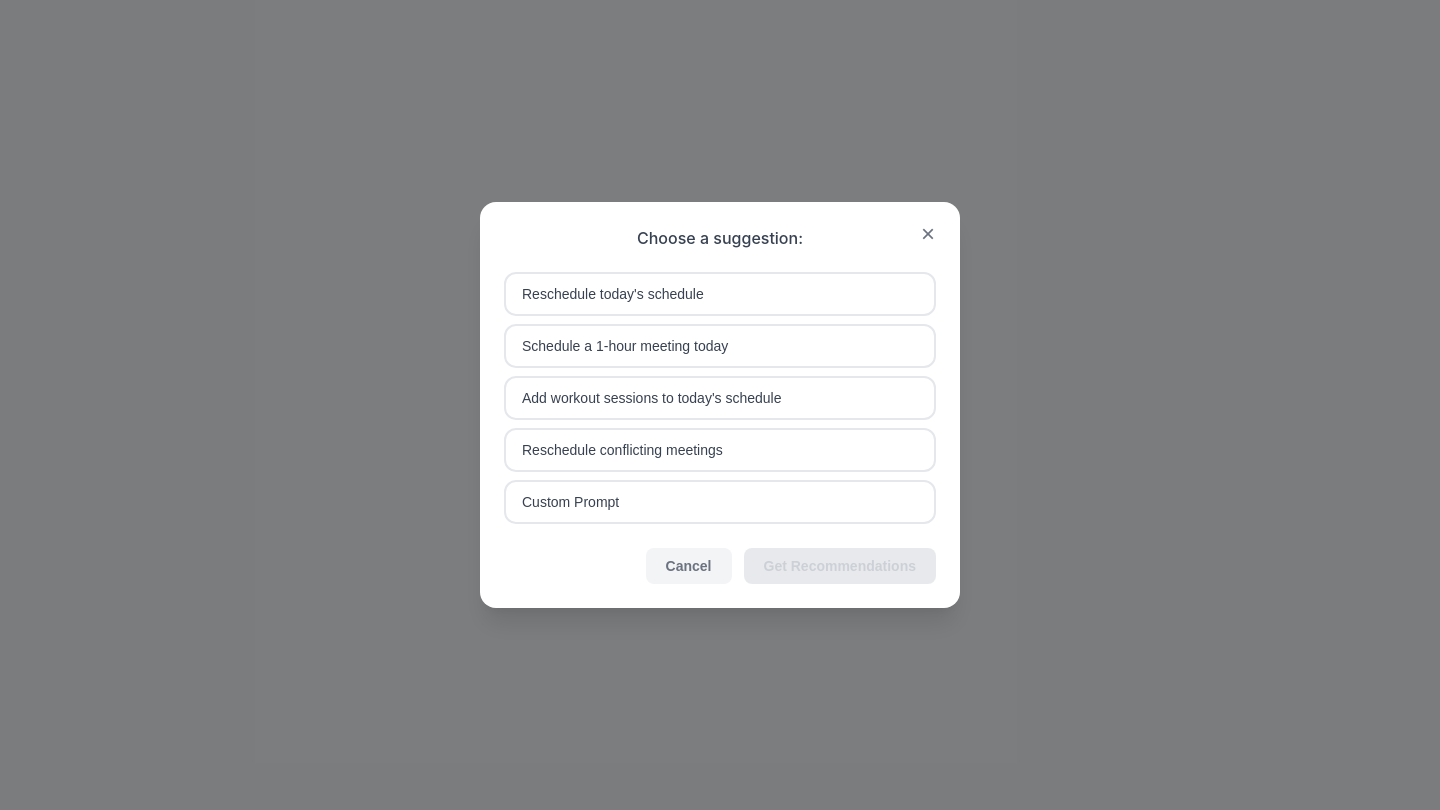
Test: ScheduleRecommendationsModal › Time Preferences › updates parent checkbox when all children are selected
Click the button "Reschedule today's schedule": (613, 294) [504,272,936,316]
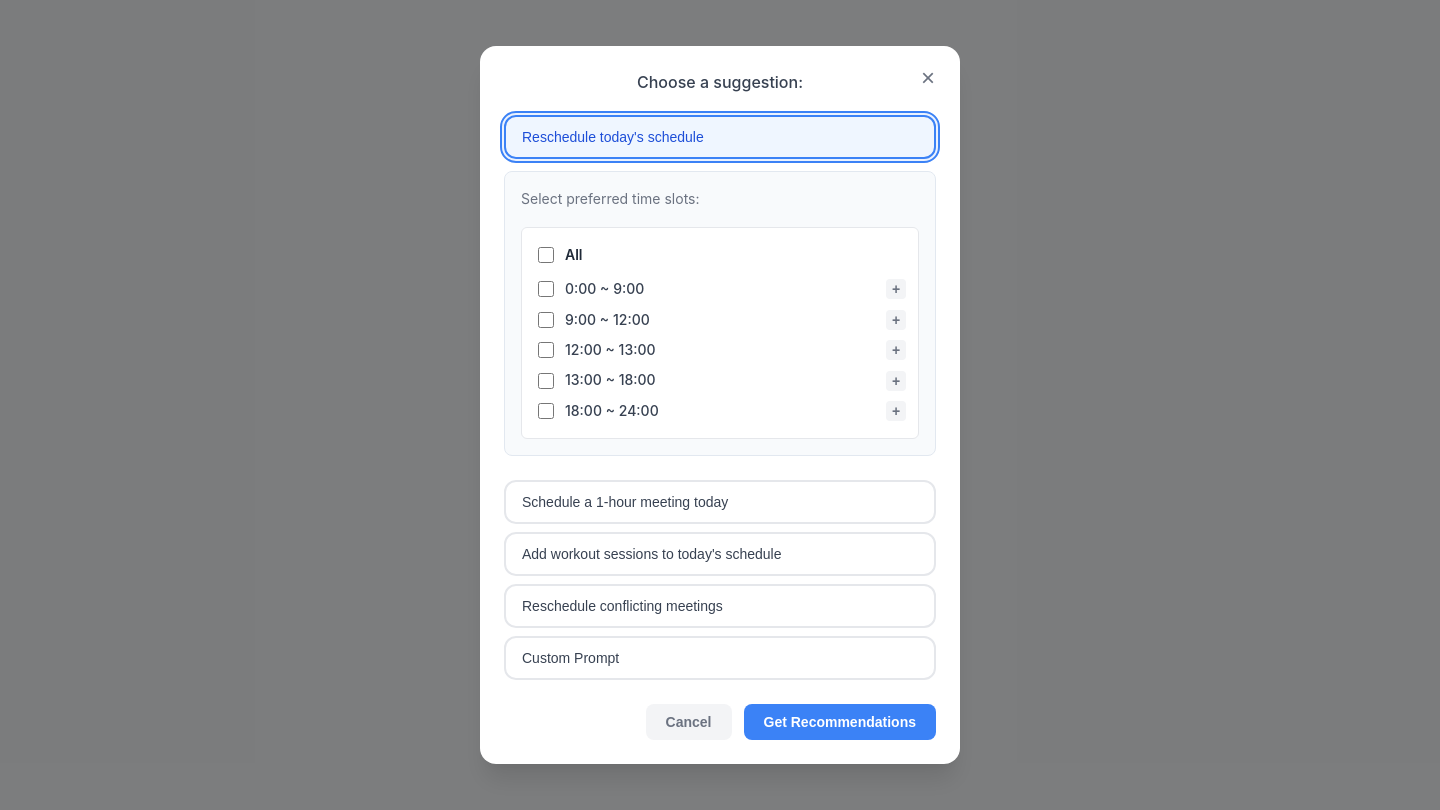
Click the button with class "toggle-button" in the row of "9:00 ~ 12:00": (896, 320) [886,310,906,330]
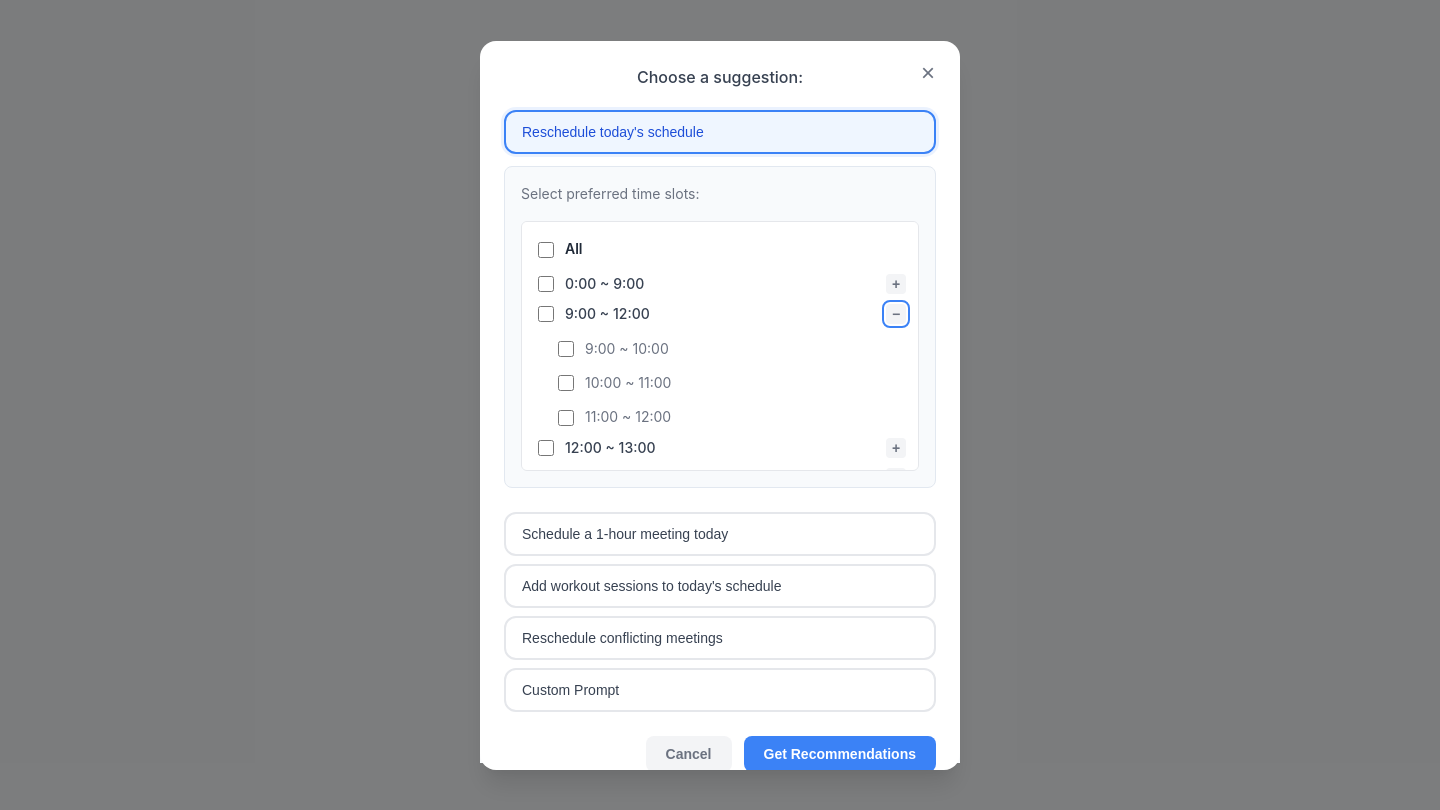
Click the checkbox labelled "9:00 ~ 10:00": (566, 349) [558,341,574,357]
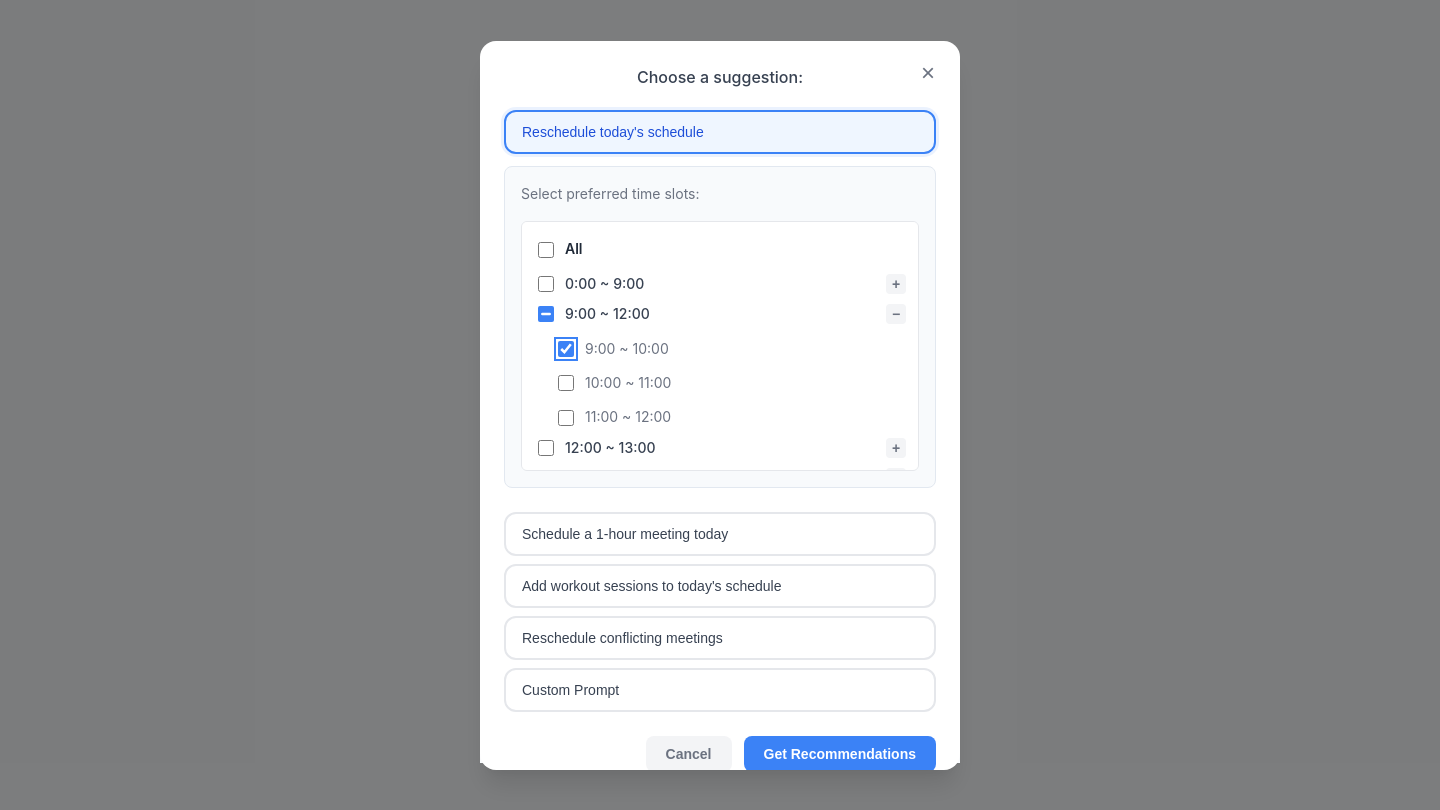
Click the checkbox labelled "10:00 ~ 11:00": (566, 383) [558,375,574,391]
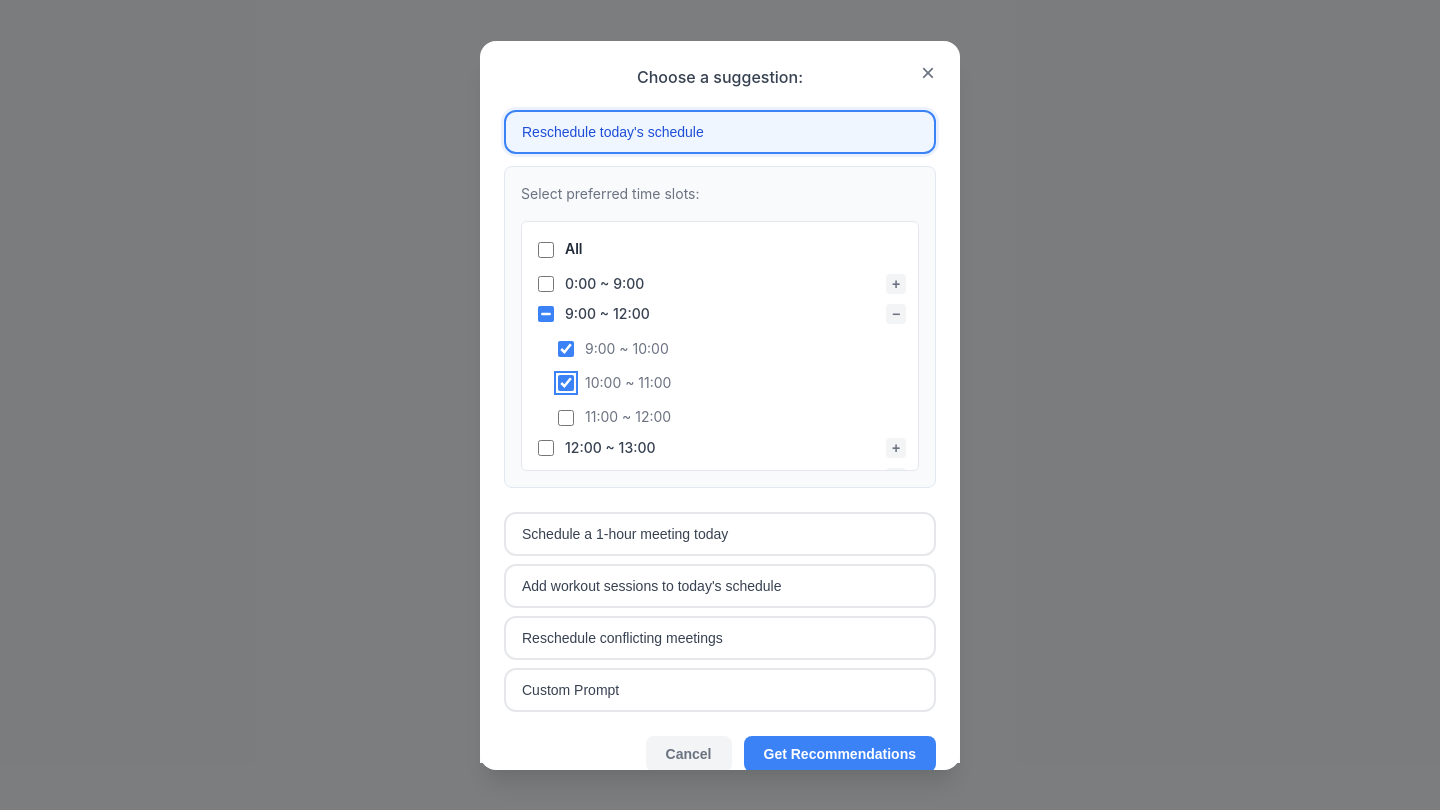
Click the checkbox labelled "11:00 ~ 12:00": (566, 418) [558,410,574,426]
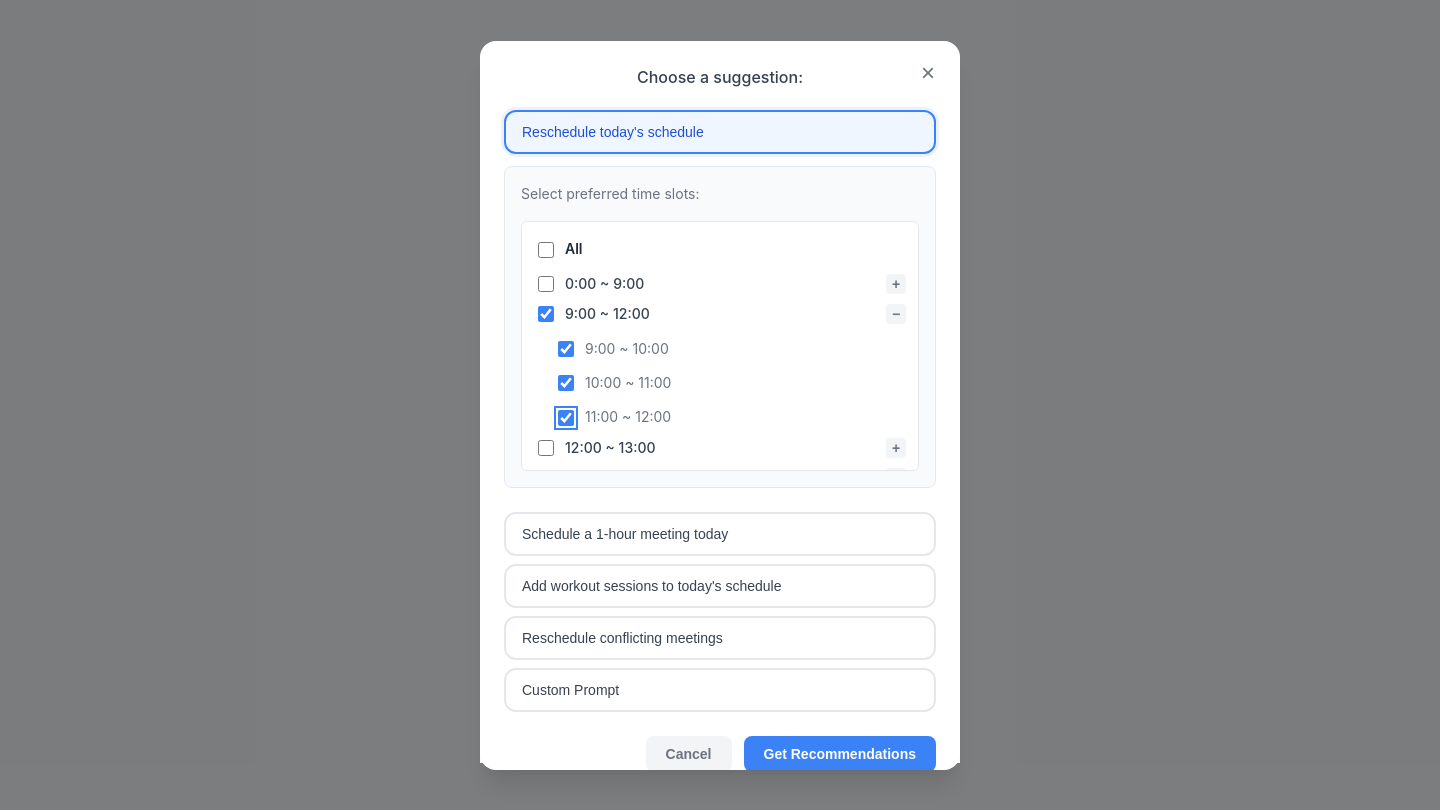
Check: the checkbox labelled "9:00 ~ 12:00" is checked, box [538,306,554,322]
